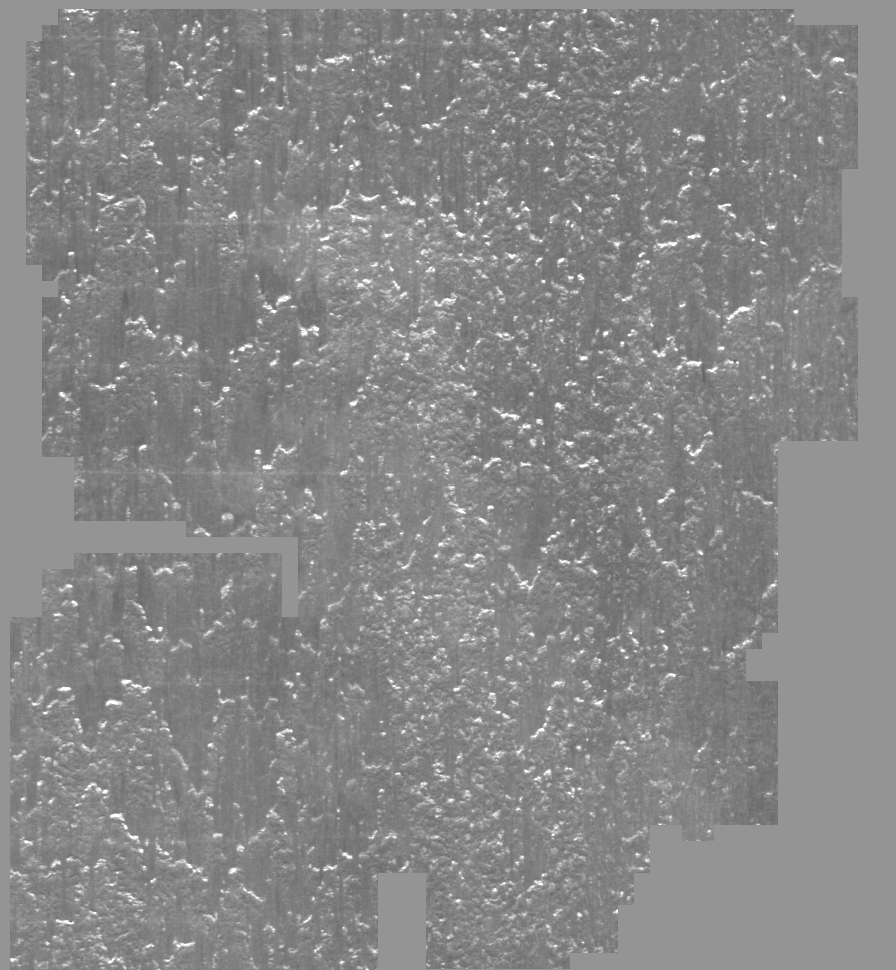oxl: (35, 10, 861, 960)
